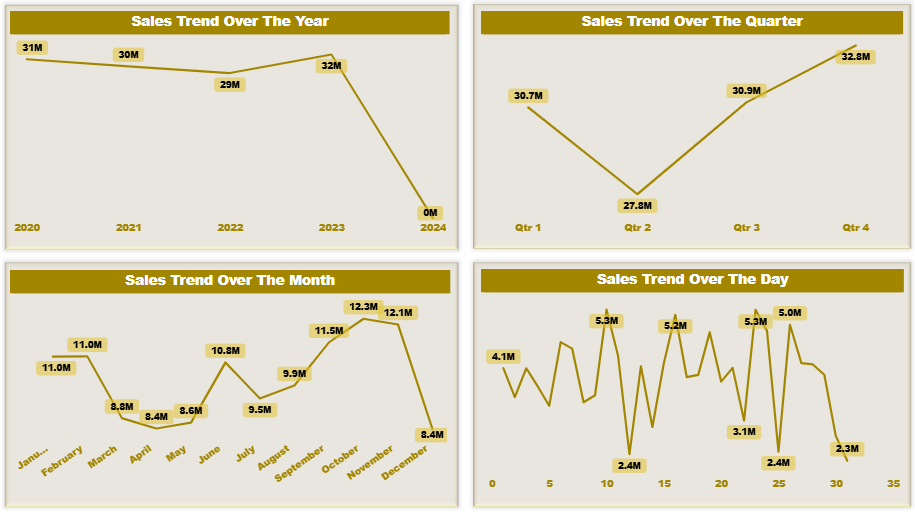

This screenshot's page, from the dashboard's own definition file:
{"tool":"powerbi","page":{"name":"MARKET OVERVIEW","canvas":[1280,720],"ordinal":1},"visuals":[{"type":"lineChart","title":"Sales Trend Over The  Year","fields":{"Category":["Fact Table.Date (dd/mm/yyyy).Variation.Date Hierarchy.Year"],"Y":["Sum(Fact Table.Net Sales)"]},"box":[23.3,20,605,318.3],"z":0},{"type":"lineChart","title":"Sales Trend Over The  Quarter","fields":{"Category":["Fact Table.Date (dd/mm/yyyy).Variation.Date Hierarchy.Quarter"],"Y":["Sum(Fact Table.Net Sales)"]},"box":[671.7,20.6,580.8,317.9],"z":1000},{"type":"lineChart","title":"Sales Trend Over The  Month","fields":{"Category":["Fact Table.Date (dd/mm/yyyy).Variation.Date Hierarchy.Month"],"Y":["Sum(Fact Table.Net Sales)"]},"box":[23.4,377.1,605.6,315.2],"z":2000},{"type":"lineChart","title":"Sales Trend Over The  Day","fields":{"Category":["Fact Table.Date (dd/mm/yyyy).Variation.Date Hierarchy.Day"],"Y":["Sum(Fact Table.Net Sales)"]},"box":[671.7,375.7,582.2,315.2],"z":3000}]}

Visuals, with their boxes in screenshot pixels (x1, y1, x2, y2), scaled from the page's 1280x720 canvas onto the 915x514 screenshot:
"Sales Trend Over The  Year" lineChart: 17:14:449:242
"Sales Trend Over The  Quarter" lineChart: 480:15:895:242
"Sales Trend Over The  Month" lineChart: 17:269:450:494
"Sales Trend Over The  Day" lineChart: 480:268:896:493
